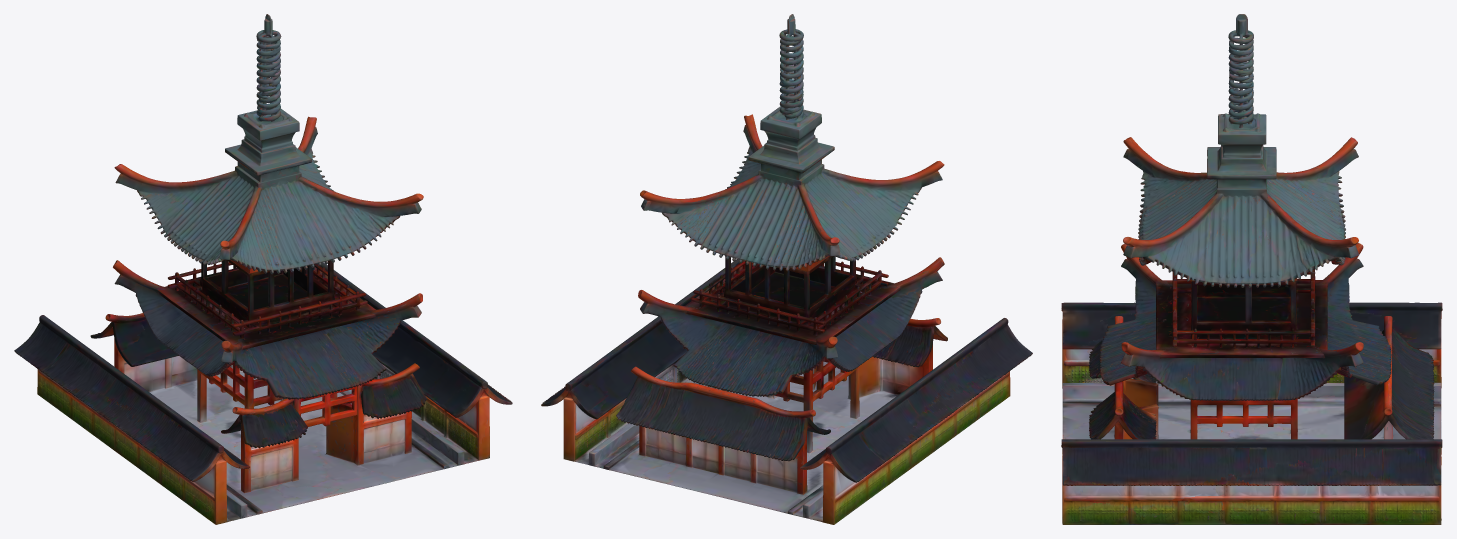
The model's file is japan.glb.
The picture shows the model from 3 angles, left to right: view 1: azimuth 30°, elevation 25°; view 2: azimuth 150°, elevation 25°; view 3: azimuth 270°, elevation 25°; orthographic projection. The views are drawn at different scales.
Parts seen in each view (by area): view 1: node_0; view 2: node_0; view 3: node_0.
Boxes of the visible parts, left/top/right/bottom form: node_0: left=14, top=14, right=512, bottom=524; node_0: left=541, top=14, right=1032, bottom=524; node_0: left=1061, top=14, right=1442, bottom=524.
Size of the model in its own units: 0.6763 by 0.8316 by 0.6525.
1 material, 1 textured.
